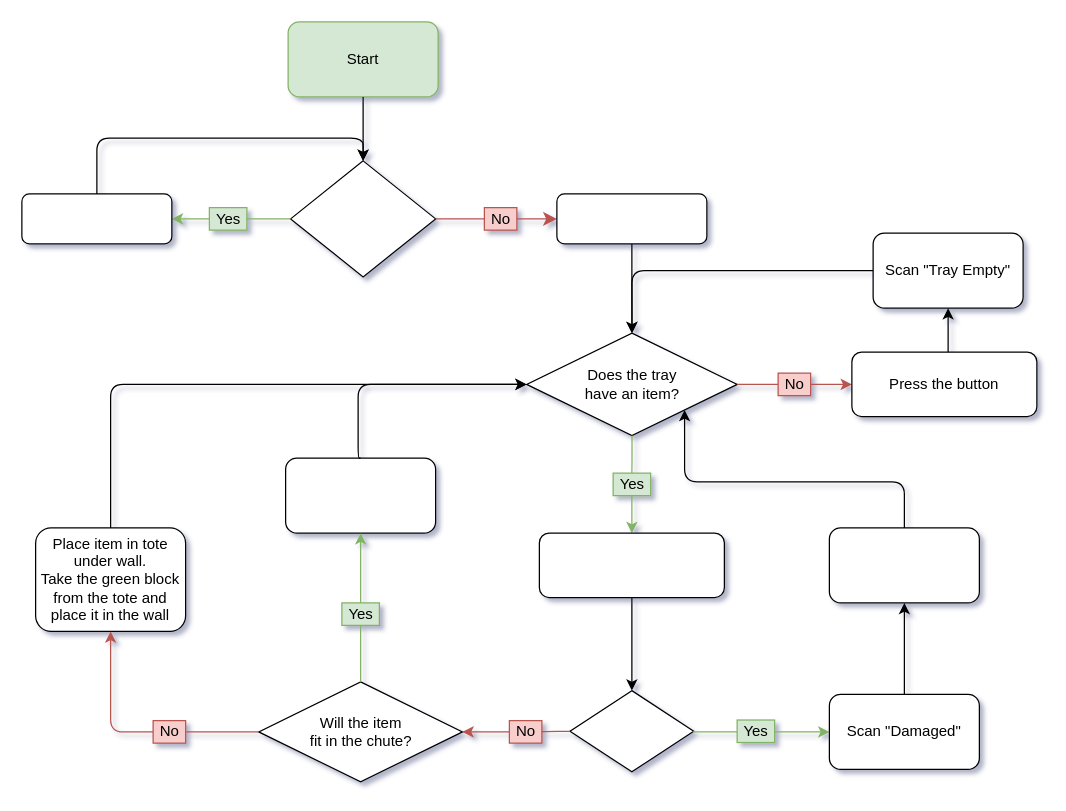
This 1066x811 diagram has some shape labels left out. Here are the shapes that lost their labels. From the top down, the box of each, then its label:
(21, 193, 172, 244): Log out of both red and green
(289, 160, 436, 277): Are the action buttons lit up?
(556, 193, 707, 244): Scan badge to log in
(284, 457, 436, 533): Place item in chute > press corresponding button
(538, 532, 724, 598): Press the action button, grab the item
(828, 527, 979, 603): Place item in damage tote
(569, 689, 694, 772): Is the item damaged?
